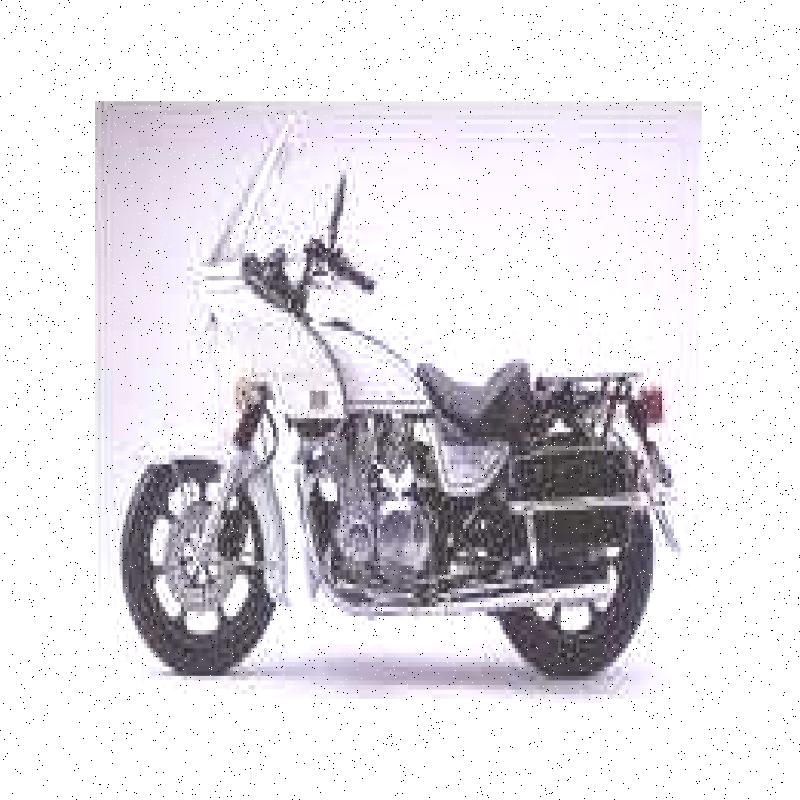bike: (98, 108, 694, 684)
